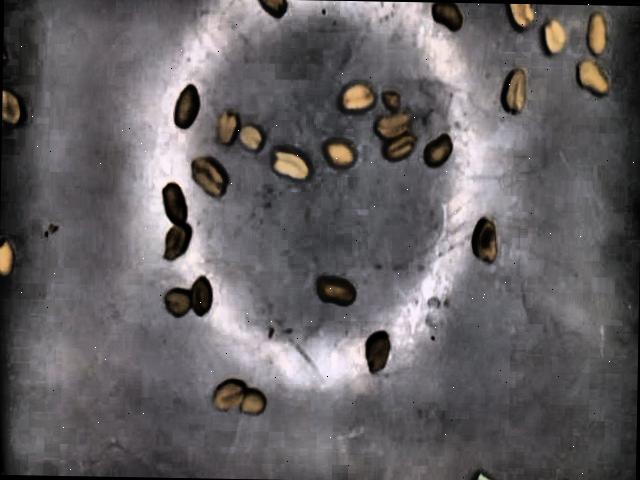Almennt: (270, 145, 311, 181), (501, 66, 527, 113), (176, 82, 202, 128), (578, 59, 611, 94), (191, 159, 226, 191), (164, 180, 188, 226), (164, 221, 190, 263), (326, 137, 358, 171), (317, 277, 357, 304), (367, 332, 392, 375), (215, 108, 241, 148), (474, 213, 495, 261), (542, 17, 568, 55), (585, 8, 606, 55), (217, 378, 248, 409), (433, 2, 465, 32), (378, 112, 412, 139), (2, 89, 25, 127), (344, 84, 375, 111), (239, 123, 267, 152), (426, 135, 454, 164), (387, 131, 414, 161), (504, 3, 536, 28), (165, 289, 193, 316), (192, 277, 212, 313), (241, 389, 268, 414), (0, 233, 12, 278), (261, 0, 288, 17), (386, 92, 403, 109)
